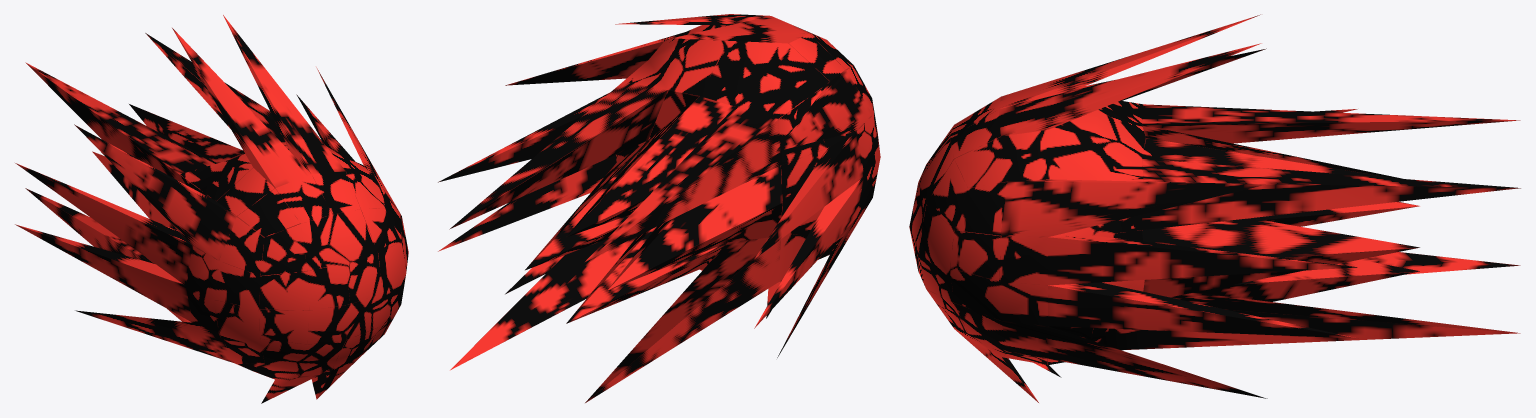
File: Pr_fire.fbx
The picture shows the model from 3 angles, left to right: view 1: azimuth 30°, elevation 25°; view 2: azimuth 150°, elevation 25°; view 3: azimuth 270°, elevation 25°; orthographic projection. The views are drawn at different scales.
Parts seen in each view (by area): view 1: PrjctBomb; view 2: PrjctBomb; view 3: PrjctBomb.
Part boxes in pixels (x1,y1,x2,y2): PrjctBomb: (15, 15, 408, 403); PrjctBomb: (438, 14, 880, 402); PrjctBomb: (909, 14, 1520, 402).
Bounding box in the file's own units: 271 × 288 × 441.
1 material, 1 textured.
